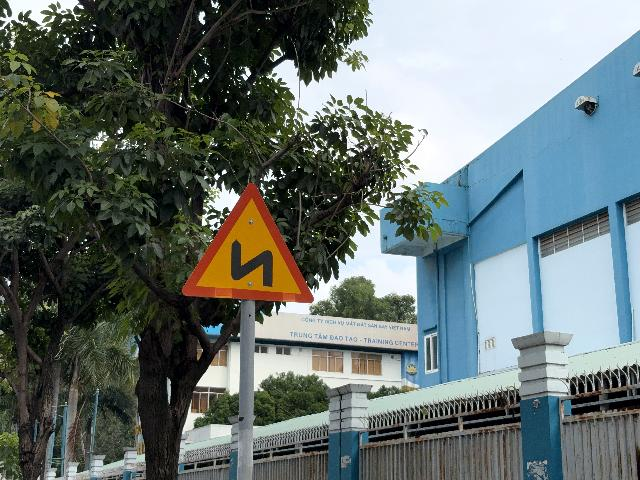nhieu-cho-ngoat-nguy-hiem-lien-tiep: (182, 183, 314, 303)
